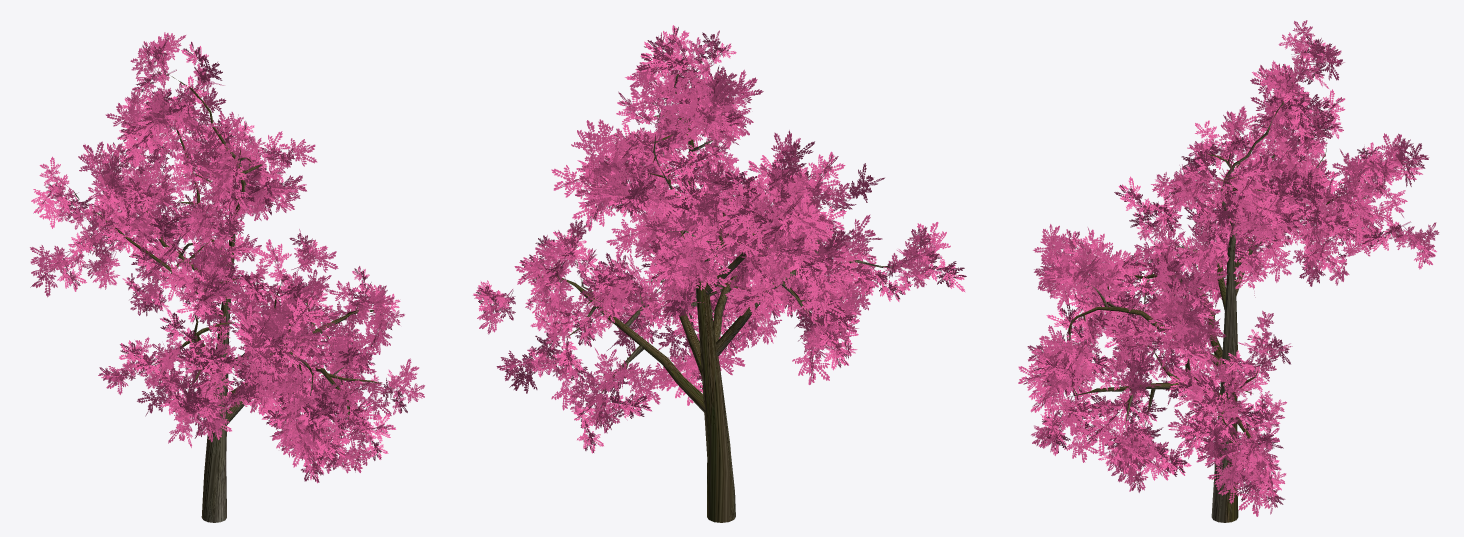
Rendered from flower-a-far.glb.
The picture shows the model from 3 angles, left to right: view 1: azimuth 30°, elevation 25°; view 2: azimuth 150°, elevation 25°; view 3: azimuth 270°, elevation 25°; orthographic projection. The views are drawn at different scales.
Visible parts, largest first — view 1: leaves, bark; view 2: leaves, bark; view 3: leaves, bark.
Part boxes in pixels (x1=…): leaves: x1=30, y1=32, x2=424, y2=483; bark: x1=74, y1=72, x2=381, y2=522; leaves: x1=473, y1=25, x2=966, y2=453; bark: x1=533, y1=61, x2=899, y2=522; leaves: x1=1018, y1=20, x2=1439, y2=516; bark: x1=1066, y1=54, x2=1365, y2=522.
Size of the model in its own units: 0.8267 by 1.01 by 0.8223.
2 materials, 2 textured.
